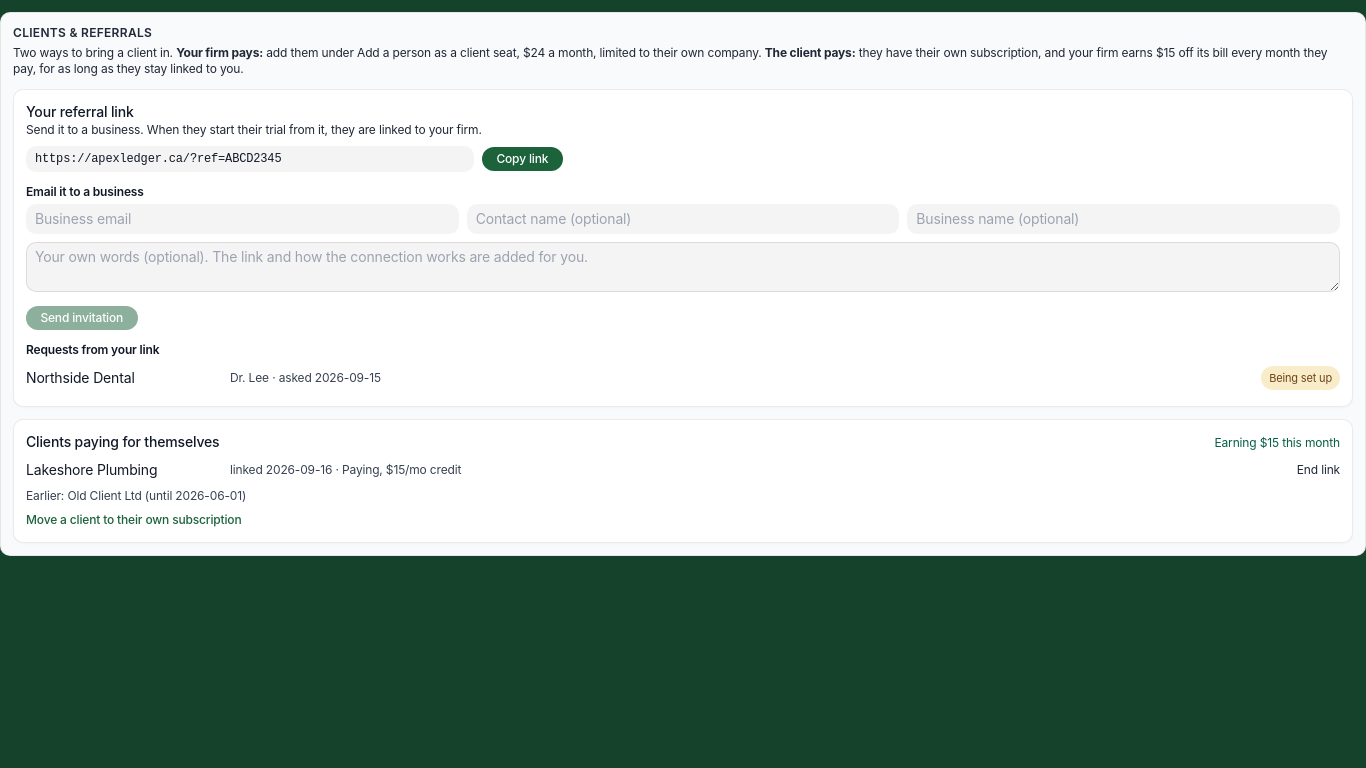
Scenario: clients and referrals for a CPA firm › emails the link to a business, with replies going to the sender
In the field with placeholder "Business email": (242, 219) [26,204,459,234], type "dev@lakeshore.ca"
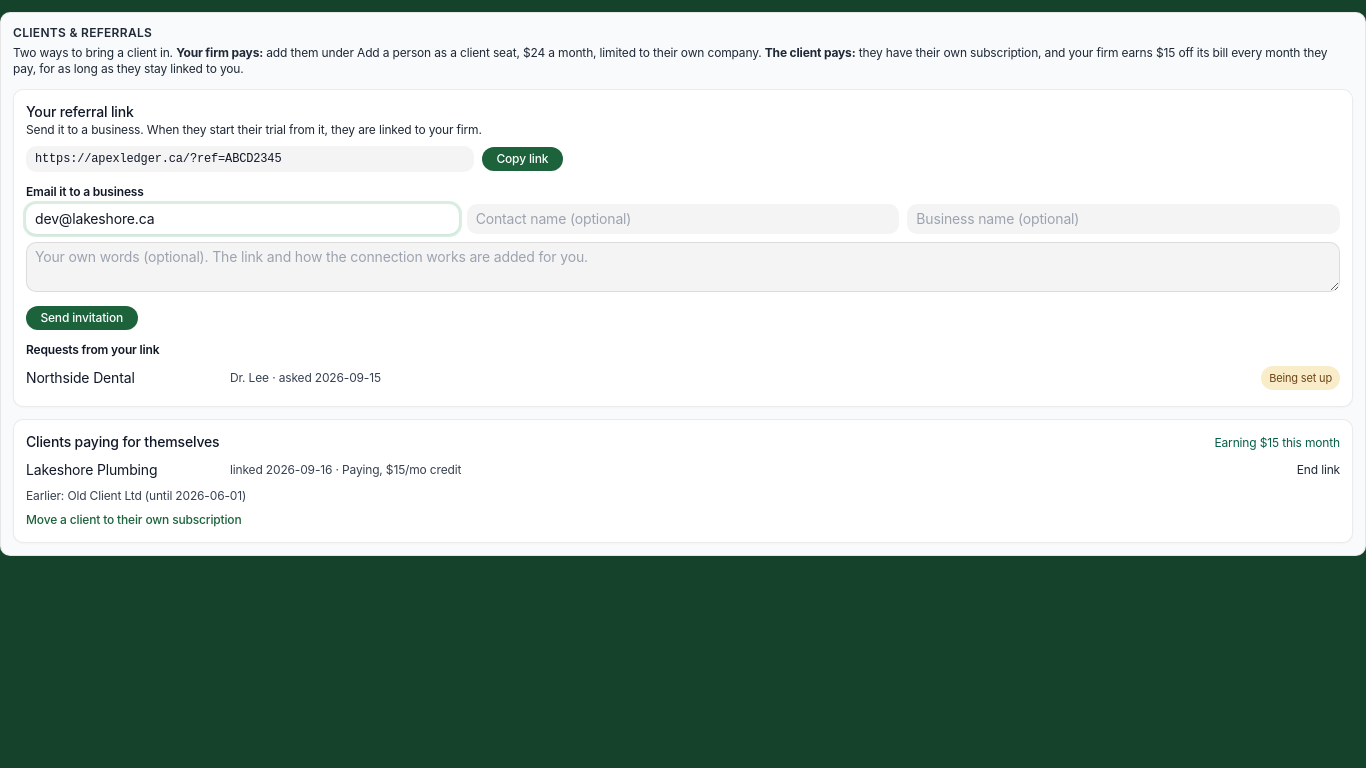
In the field with placeholder "Contact name (optional)": (683, 219) [467,204,899,234], type "Dev"
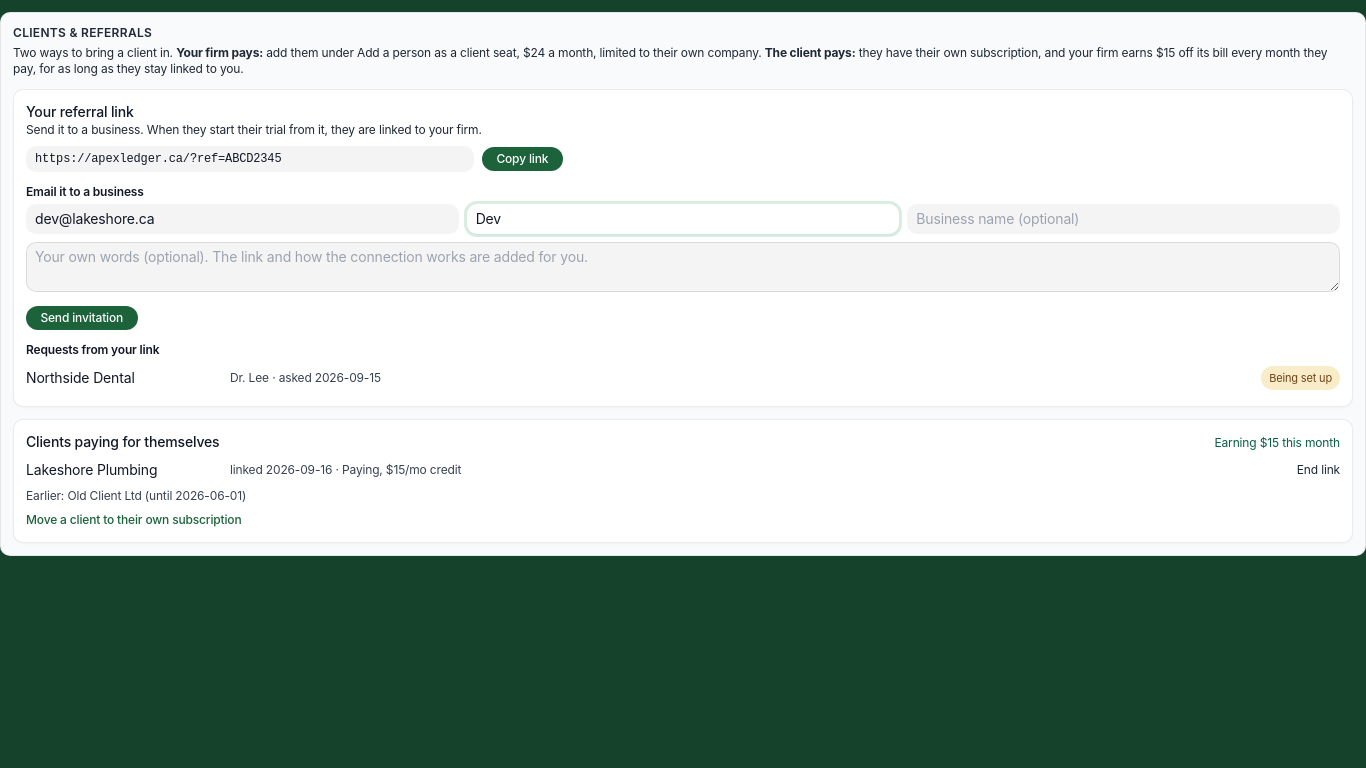
Click the button "Send invitation": (82, 318) [26,306,138,330]
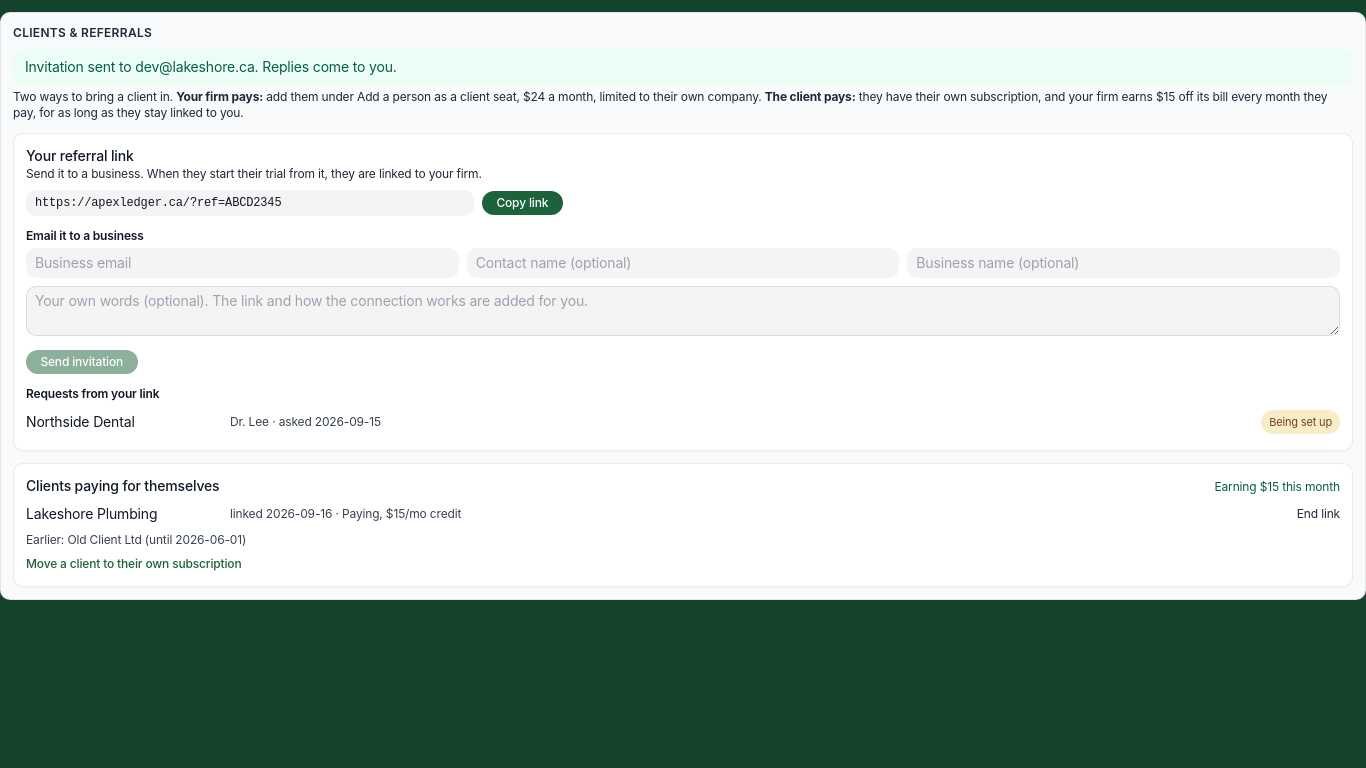
Now the text "Invitation sent to dev@lakeshore.ca. Replies come to you." is shown, box [13,49,1353,85]
